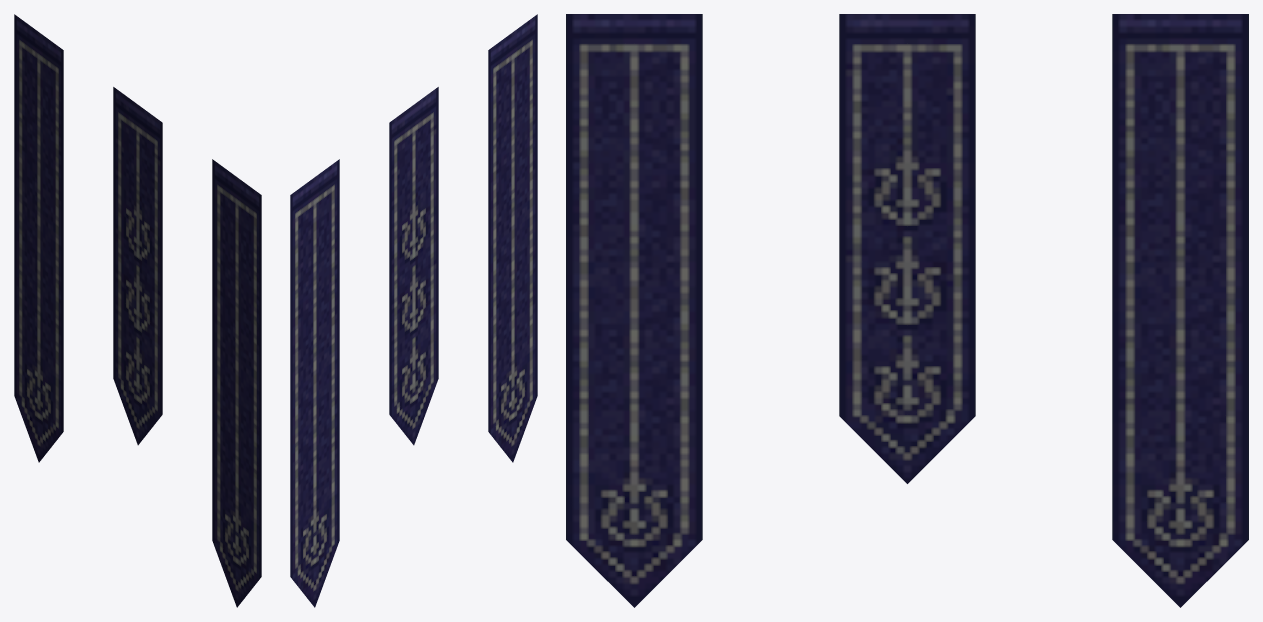
File: EnvMdrMD_Daiseidou_A_Flag_A.FBX
3 views of the same model, side by side, from view 1: azimuth 30°, elevation 25°; view 2: azimuth 150°, elevation 25°; view 3: azimuth 270°, elevation 25° (orthographic). The views are drawn at different scales.
Parts seen in each view (by area): view 1: EnvMdrMD_Daiseidou_A_Flag_A; view 2: EnvMdrMD_Daiseidou_A_Flag_A; view 3: EnvMdrMD_Daiseidou_A_Flag_A.
Part boxes in pixels (x1=…): EnvMdrMD_Daiseidou_A_Flag_A: x1=14, y1=14, x2=261, y2=607; EnvMdrMD_Daiseidou_A_Flag_A: x1=290, y1=14, x2=537, y2=607; EnvMdrMD_Daiseidou_A_Flag_A: x1=566, y1=14, x2=1248, y2=607.
Bounding box in the file's own units: 0 × 480 × 500.
Materials: 1 (1 with a texture image).
